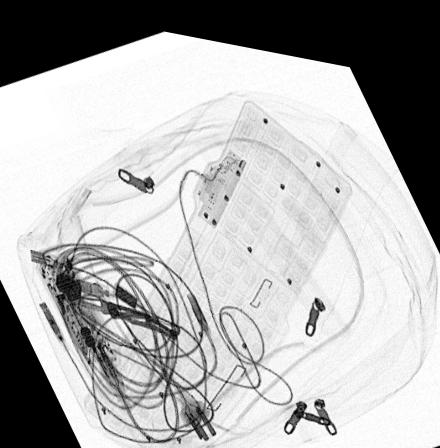Knife: (63, 285, 180, 333)
